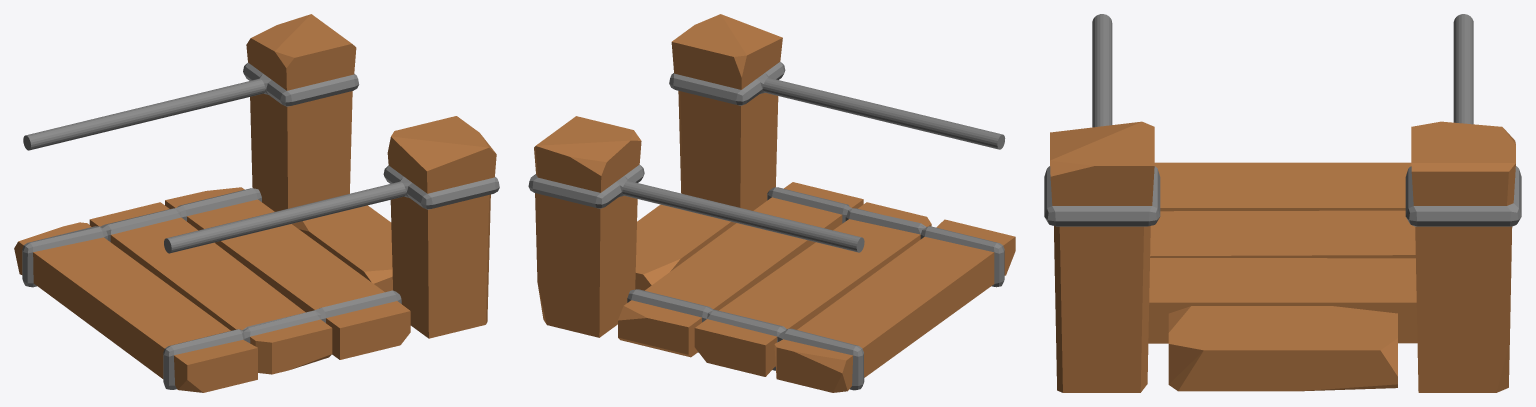
Rendered from BridgeEnd.fbx.
3 renders of one model, left to right at view 1: azimuth 30°, elevation 25°; view 2: azimuth 150°, elevation 25°; view 3: azimuth 270°, elevation 25°, orthographic. The views are drawn at different scales.
Parts seen in each view (by area): view 1: Plane.002; view 2: Plane.002; view 3: Plane.002.
Boxes of the visible parts, box(x1,y1,x2,y2) form: Plane.002: box(14, 14, 499, 392); Plane.002: box(528, 14, 1015, 392); Plane.002: box(1044, 14, 1521, 392).
Bounding box in the file's own units: 104 × 59.23 × 106.
